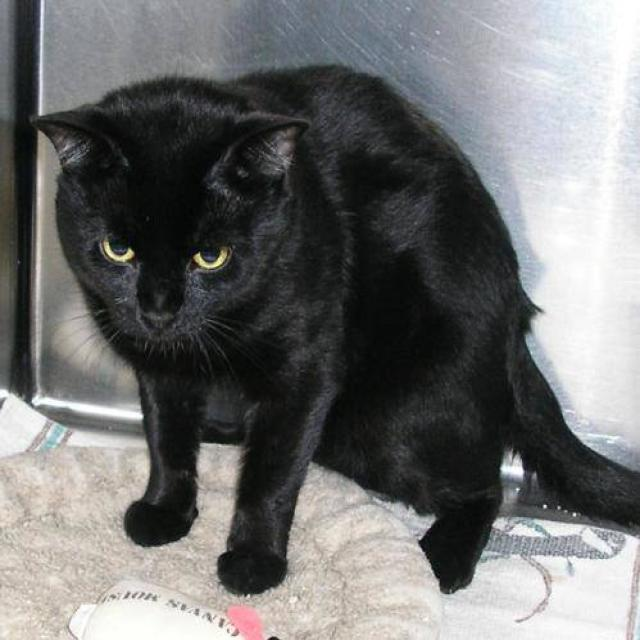cat: (28, 61, 639, 597)
